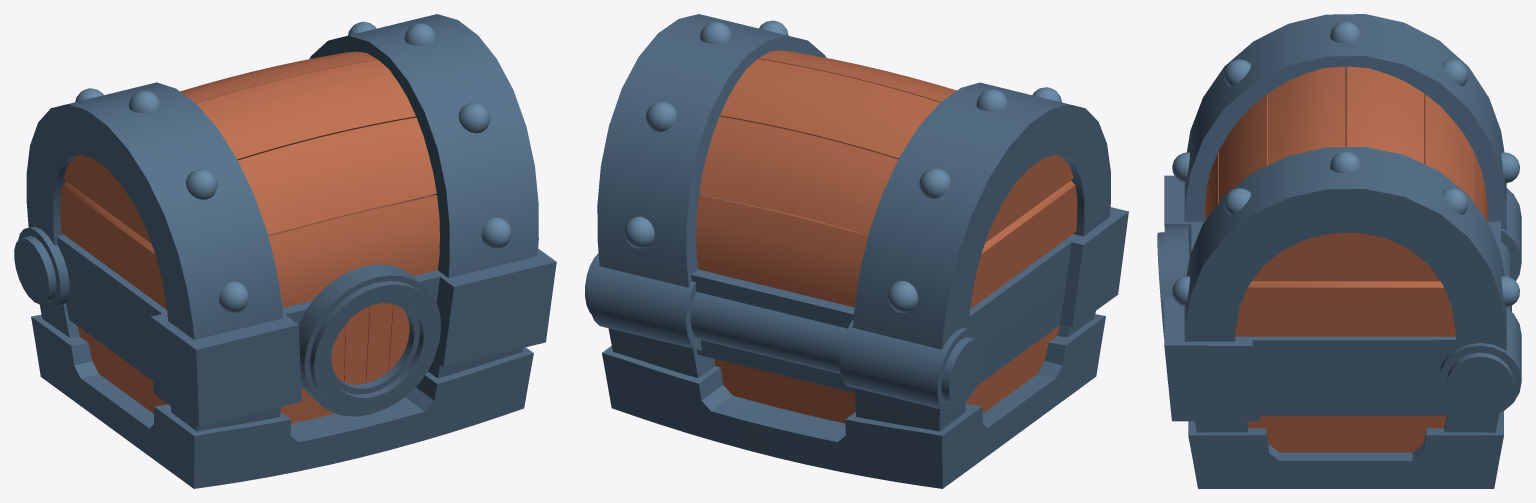
The model's file is Chest B Multi.fbx.
3 views of the same model, side by side, from view 1: azimuth 30°, elevation 25°; view 2: azimuth 150°, elevation 25°; view 3: azimuth 270°, elevation 25° (orthographic). The views are drawn at different scales.
Parts seen in each view (by area): view 1: Chest B Cover, Chest B, Chest B Icon; view 2: Chest B Cover, Chest B; view 3: Chest B Cover, Chest B, Chest B Icon.
Part boxes in pixels (box(x1,y1,x2,y2)): Chest B Cover: box(14, 14, 556, 388); Chest B: box(31, 283, 551, 488); Chest B Icon: box(298, 264, 441, 416); Chest B Cover: box(585, 14, 1128, 410); Chest B: box(602, 207, 1123, 488); Chest B Cover: box(1164, 14, 1521, 417); Chest B: box(1168, 378, 1503, 488); Chest B Icon: box(1157, 224, 1191, 338).
Bounding box in the file's own units: 2.93 × 2.6 × 2.58.
